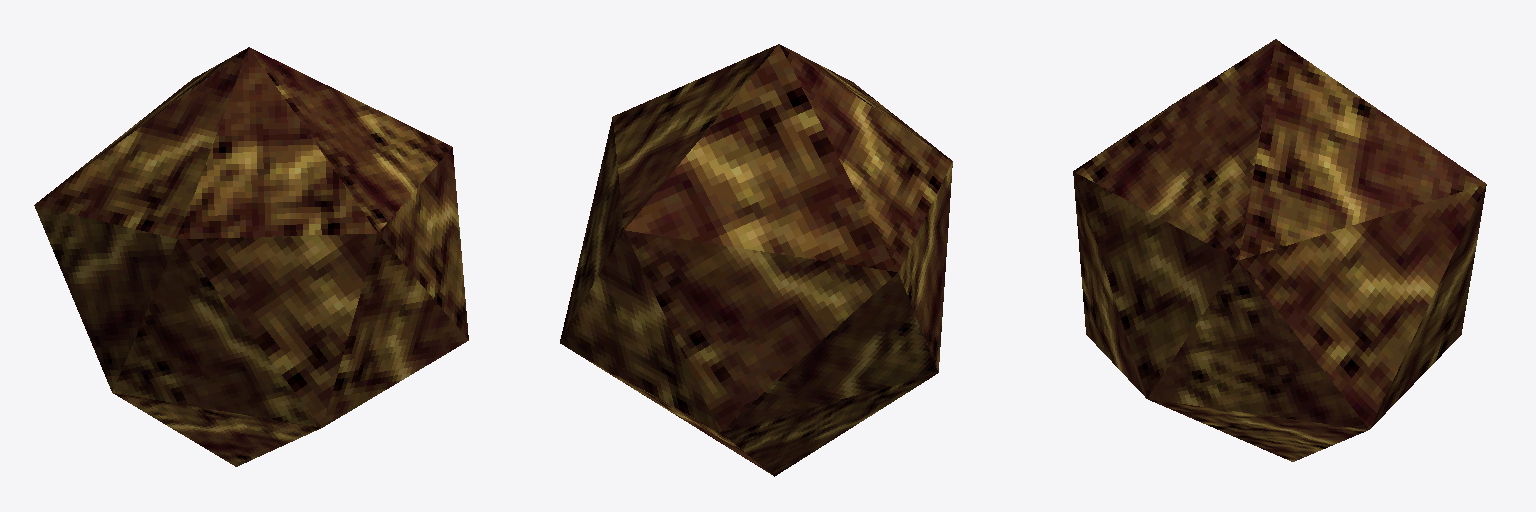
3 renders of one model, left to right at view 1: azimuth 30°, elevation 25°; view 2: azimuth 150°, elevation 25°; view 3: azimuth 270°, elevation 25°, orthographic.
Visible parts, largest first — view 1: Mesh1 brown1 skpAEE3_1 Model; view 2: Mesh1 brown1 skpAEE3_1 Model; view 3: Mesh1 brown1 skpAEE3_1 Model.
Boxes of the visible parts, x1,y1,x2,y2 form: Mesh1 brown1 skpAEE3_1 Model: [34, 47, 468, 466]; Mesh1 brown1 skpAEE3_1 Model: [560, 44, 952, 476]; Mesh1 brown1 skpAEE3_1 Model: [1073, 39, 1486, 461].
Bounding box in the file's own units: 279 × 322 × 284.
Materials: 1 (1 with a texture image).